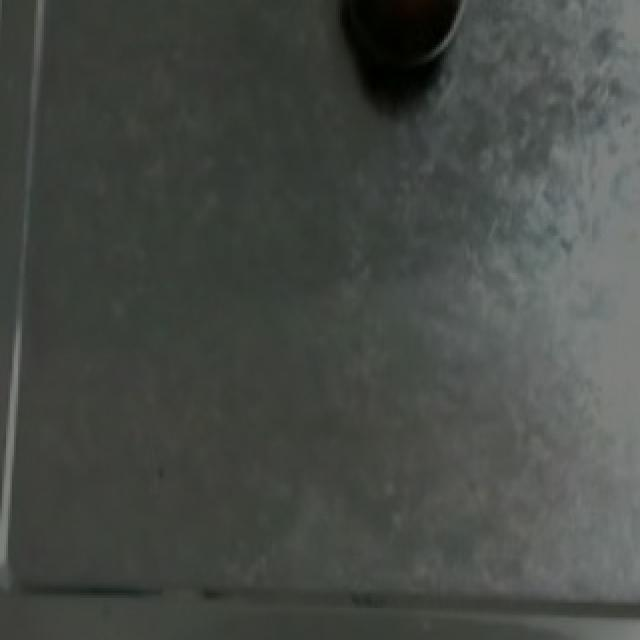Fruit: (334, 0, 476, 89)
